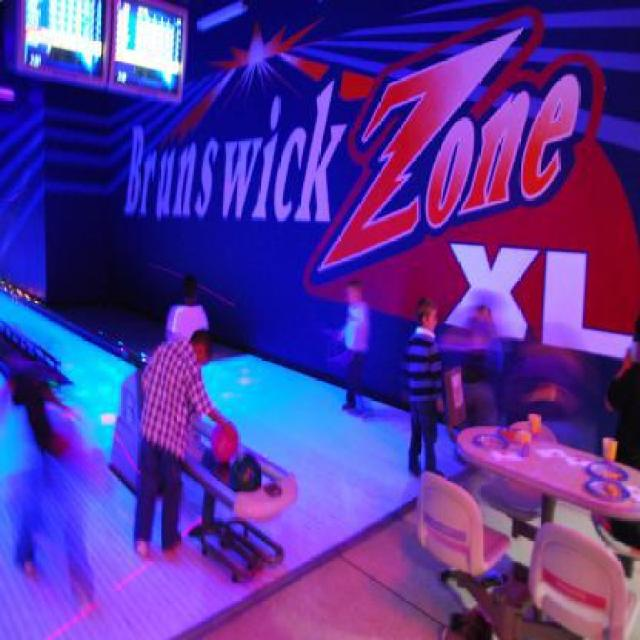Person: (124, 276, 218, 572), (608, 310, 638, 556), (408, 291, 444, 478), (339, 279, 372, 412)
